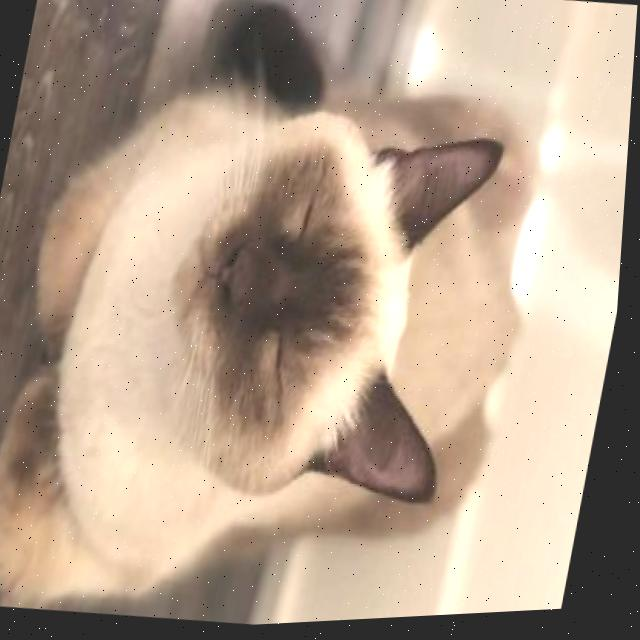Siamese: (0, 0, 586, 640)
